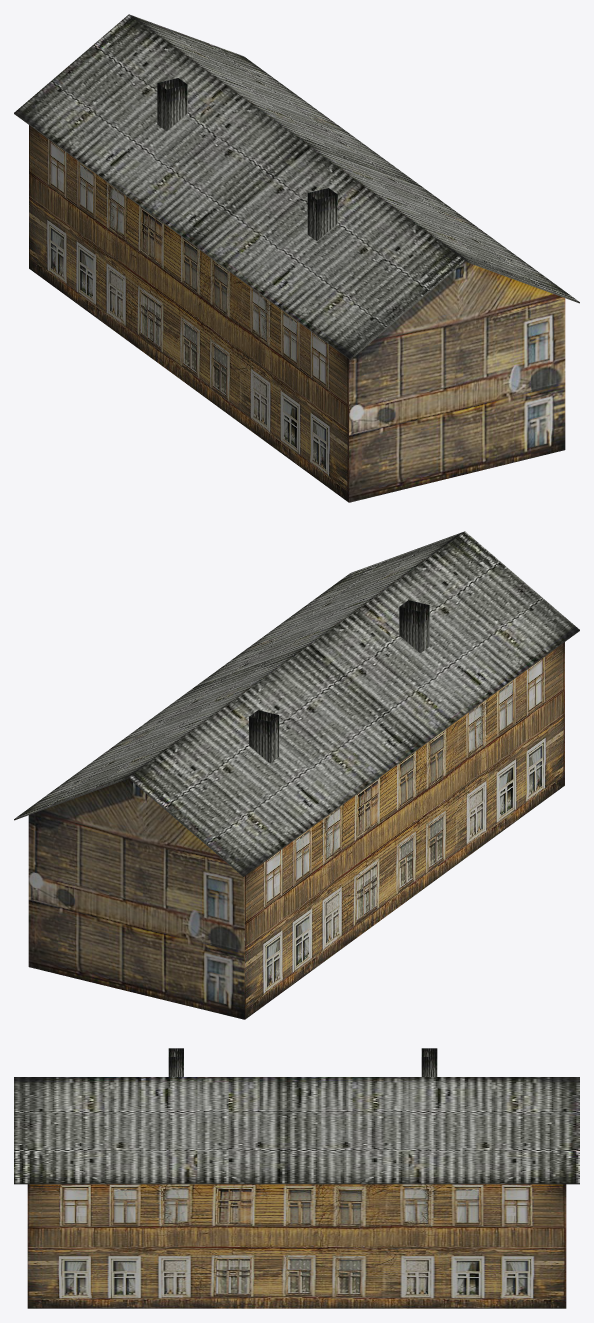
Rendered from d_dom_2et_25.FBX.
3 renders of one model, top to bottom at view 1: azimuth 30°, elevation 25°; view 2: azimuth 150°, elevation 25°; view 3: azimuth 270°, elevation 25°, orthographic. The views are drawn at different scales.
Parts seen in each view (by area): view 1: d_dom_2et_25; view 2: d_dom_2et_25; view 3: d_dom_2et_25.
Boxes of the visible parts, x1,y1,x2,y2 form: d_dom_2et_25: (14, 14, 579, 502); d_dom_2et_25: (14, 531, 579, 1019); d_dom_2et_25: (14, 1048, 579, 1308).
Size of the model in its own units: 8.78 by 22.24 by 8.36.
